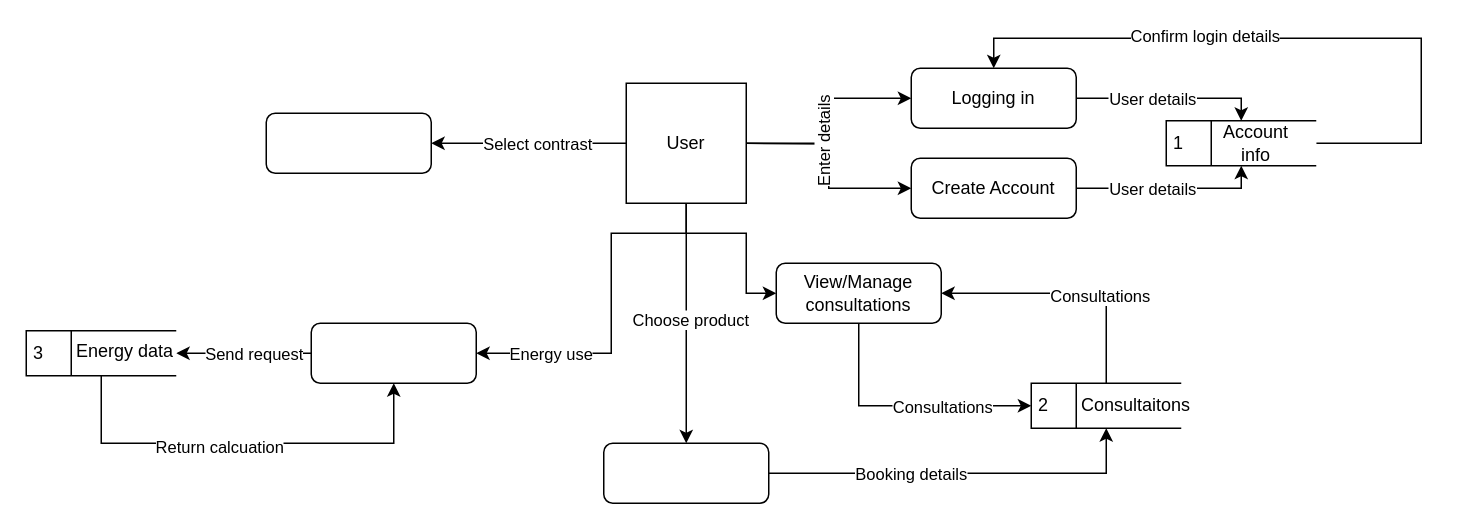
Image size: 1460x530. Some labels were removed from this diagram. The centre of each missing label's shape, as x and y in pixels:
Accessability: [348,142]
Booking consultation: [685,472]
Calculate energy usage: [393,352]
